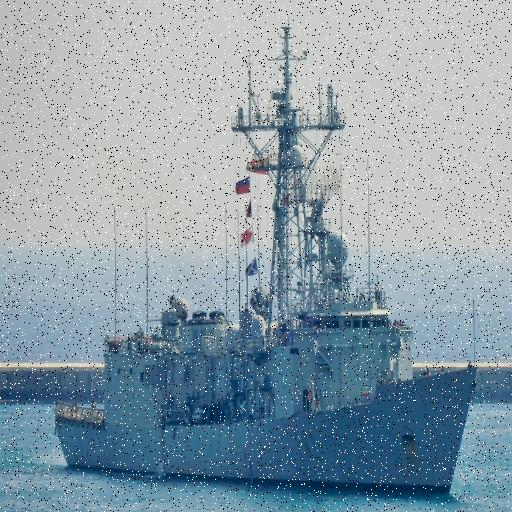Fragata: (52, 27, 481, 498)
